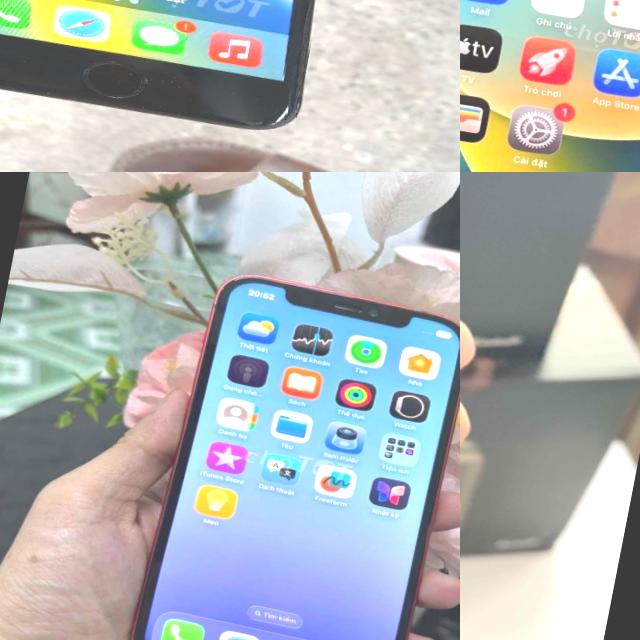gen_11: (113, 260, 460, 640)
gen_12_13: (460, 0, 640, 172)
gen_15: (460, 172, 527, 640)
gen_7_8: (0, 0, 313, 128)
scratch: (243, 91, 309, 148)
